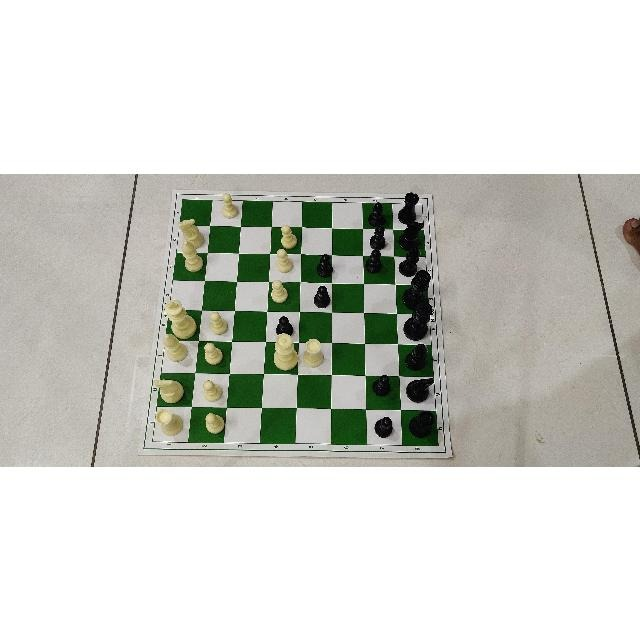black-bishop: (397, 246, 421, 278), (404, 342, 429, 370), (405, 342, 429, 370)
black-king: (403, 300, 433, 341)
black-knight: (405, 376, 434, 403), (398, 220, 424, 250), (405, 377, 435, 403)
black-pawn: (367, 201, 385, 227), (369, 224, 387, 249), (373, 414, 392, 437), (313, 284, 331, 308), (373, 373, 391, 397), (365, 248, 382, 273), (369, 201, 385, 227), (276, 314, 294, 337), (370, 224, 386, 249), (317, 252, 333, 277)
black-queen: (401, 269, 431, 311)
black-rook: (408, 407, 436, 438), (409, 408, 435, 438), (397, 190, 420, 223)
white-bishop: (161, 332, 189, 364), (180, 238, 204, 274)
white-king: (164, 298, 197, 340)
white-knight: (178, 216, 206, 250), (152, 376, 183, 404)
white-pawn: (200, 340, 228, 364), (206, 309, 231, 334), (220, 193, 242, 221), (278, 221, 300, 247), (209, 309, 229, 335), (203, 411, 225, 434), (276, 246, 294, 273), (210, 309, 228, 334), (276, 248, 293, 274), (270, 278, 287, 303), (203, 379, 223, 400)
white-queen: (275, 332, 299, 370)
white-rook: (155, 409, 184, 437), (303, 337, 325, 367)
